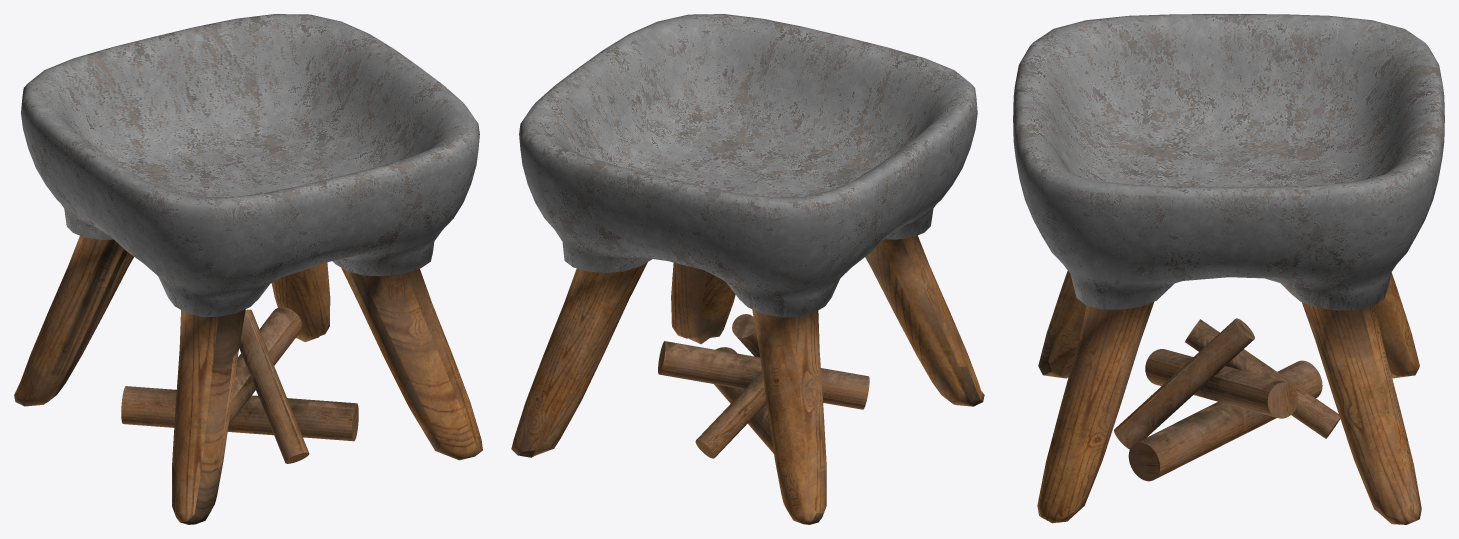
Rendered from CookPot (1).fbx.
3 renders of one model, left to right at view 1: azimuth 30°, elevation 25°; view 2: azimuth 150°, elevation 25°; view 3: azimuth 270°, elevation 25°, orthographic. The views are drawn at different scales.
Parts seen in each view (by area): view 1: Cube, Cylinder.001; view 2: Cube, Cylinder.001; view 3: Cube, Cylinder.001.
Boxes of the visible parts, x1,y1,x2,y2 form: Cube: [14, 14, 482, 524]; Cylinder.001: [121, 307, 358, 463]; Cube: [511, 14, 984, 524]; Cylinder.001: [658, 314, 869, 458]; Cube: [1013, 14, 1444, 524]; Cylinder.001: [1114, 318, 1340, 481].
Size of the model in its own units: 417 by 371 by 417.
